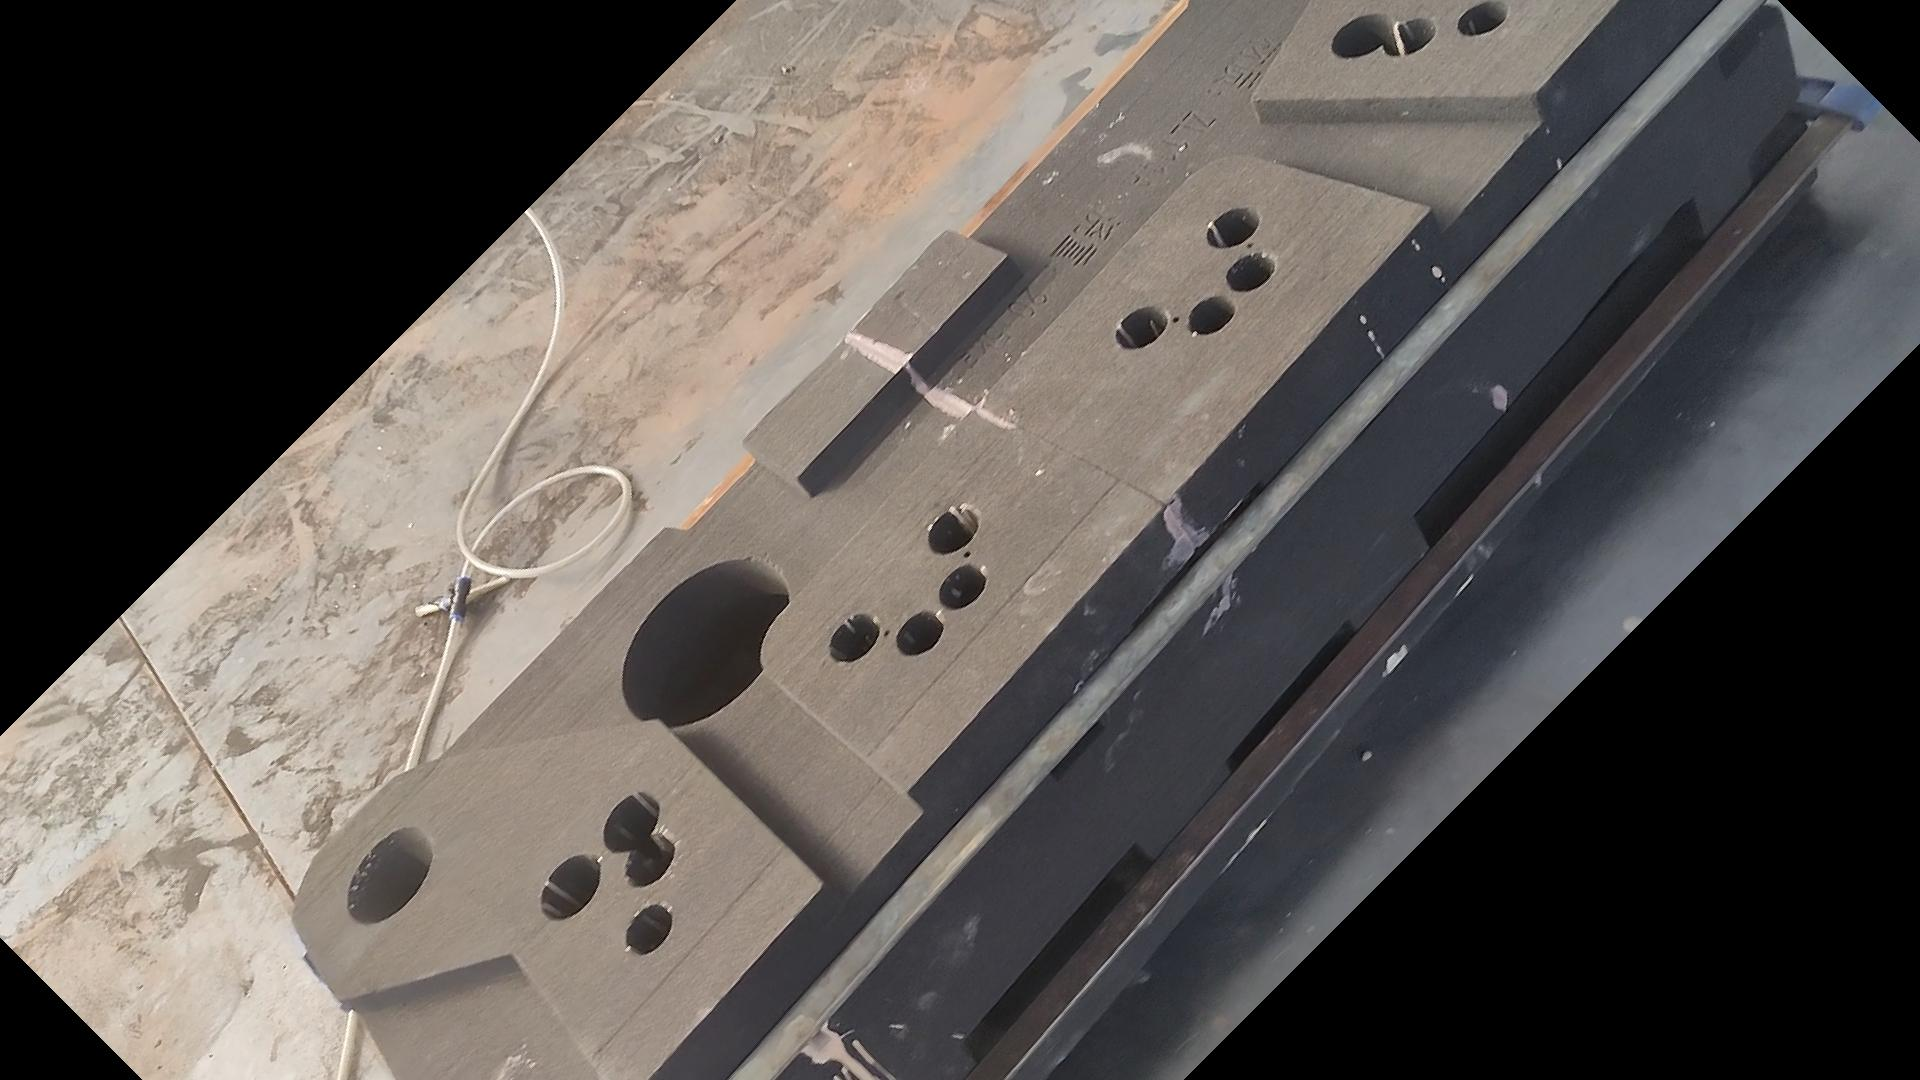pouring hole: (347, 829, 433, 924)
